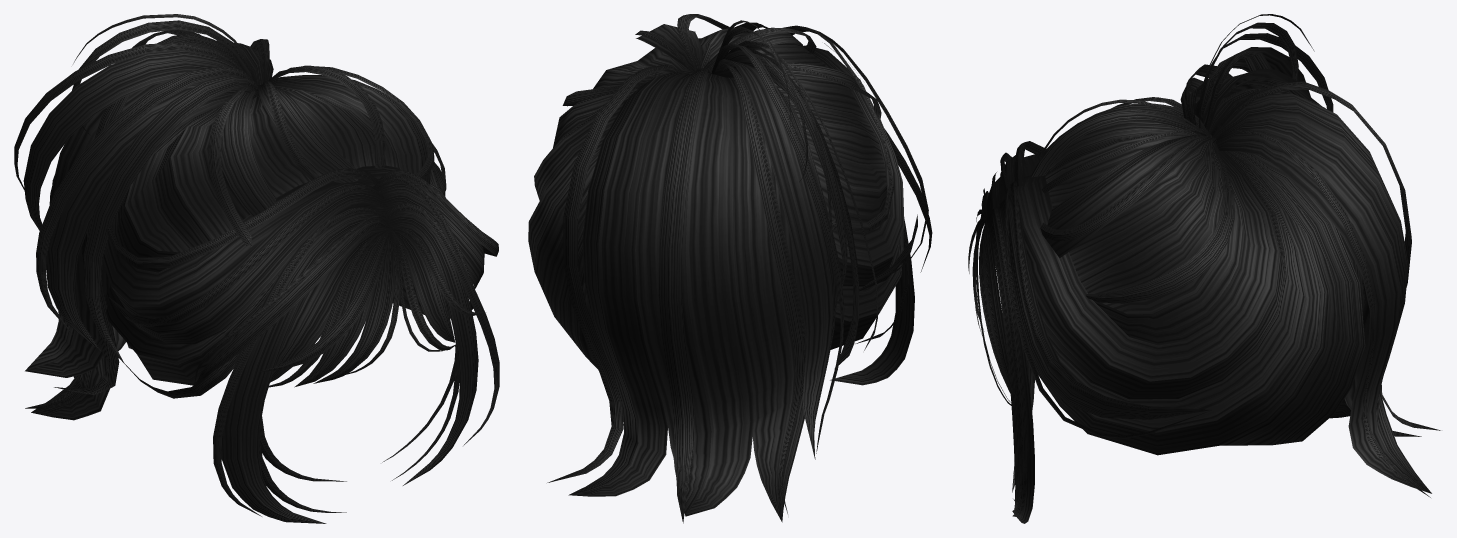
The model's file is 07-Short-Anime-Wispy-Ponytail-Black-87974376605658.glb.
3 views of the same model, side by side, from view 1: azimuth 30°, elevation 25°; view 2: azimuth 150°, elevation 25°; view 3: azimuth 270°, elevation 25° (orthographic). The views are drawn at different scales.
Parts seen in each view (by area): view 1: Short-Anime-Wispy-Ponytail-Black; view 2: Short-Anime-Wispy-Ponytail-Black; view 3: Short-Anime-Wispy-Ponytail-Black.
Part boxes in pixels (x1,y1,x2,y2): Short-Anime-Wispy-Ponytail-Black: (14, 14, 499, 523); Short-Anime-Wispy-Ponytail-Black: (528, 14, 932, 523); Short-Anime-Wispy-Ponytail-Black: (968, 14, 1440, 523).
Bounding box in the file's own units: 1.83 × 2.03 × 1.94.
1 material, 1 textured.
